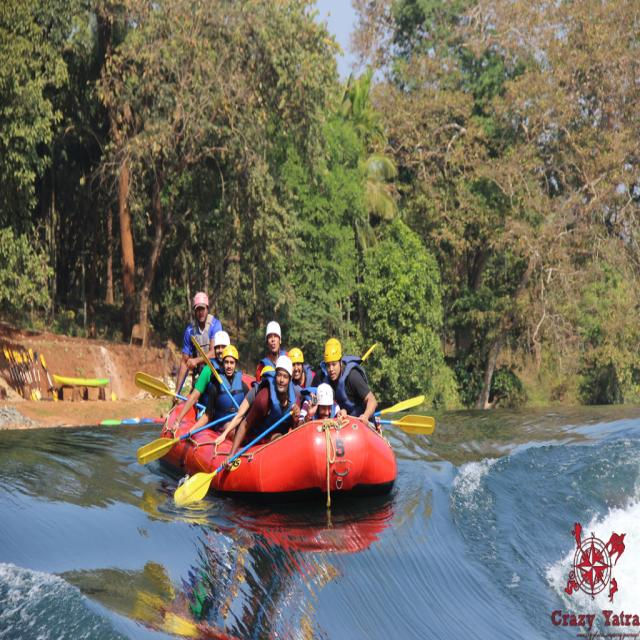Boat: (134, 370, 418, 501)
